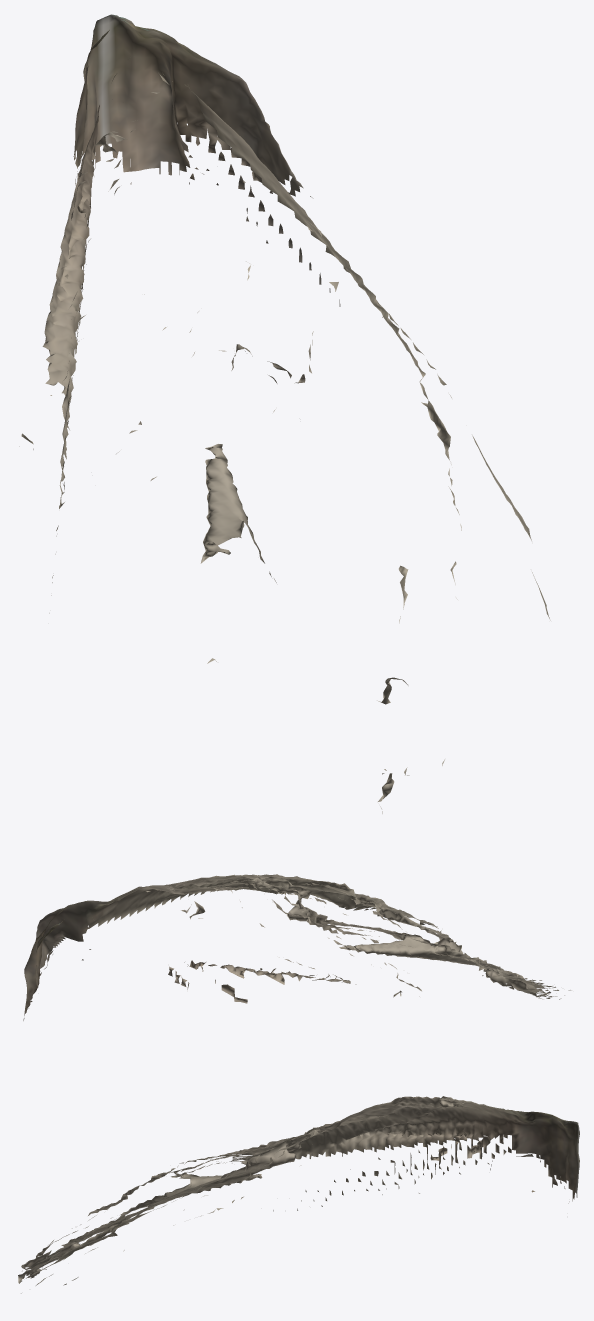
The model's file is collider.glb.
3 views of the same model, one above another, from view 1: azimuth 30°, elevation 25°; view 2: azimuth 150°, elevation 25°; view 3: azimuth 270°, elevation 25° (orthographic). The views are drawn at different scales.
Visible parts, largest first — view 1: world; view 2: world; view 3: world.
Boxes of the visible parts, left/top/right/bottom form: world: left=19, top=14, right=550, bottom=813; world: left=23, top=874, right=571, bottom=1020; world: left=18, top=1096, right=579, bottom=1293.
Size of the model in its own units: 41.3 by 33.81 by 74.84.
